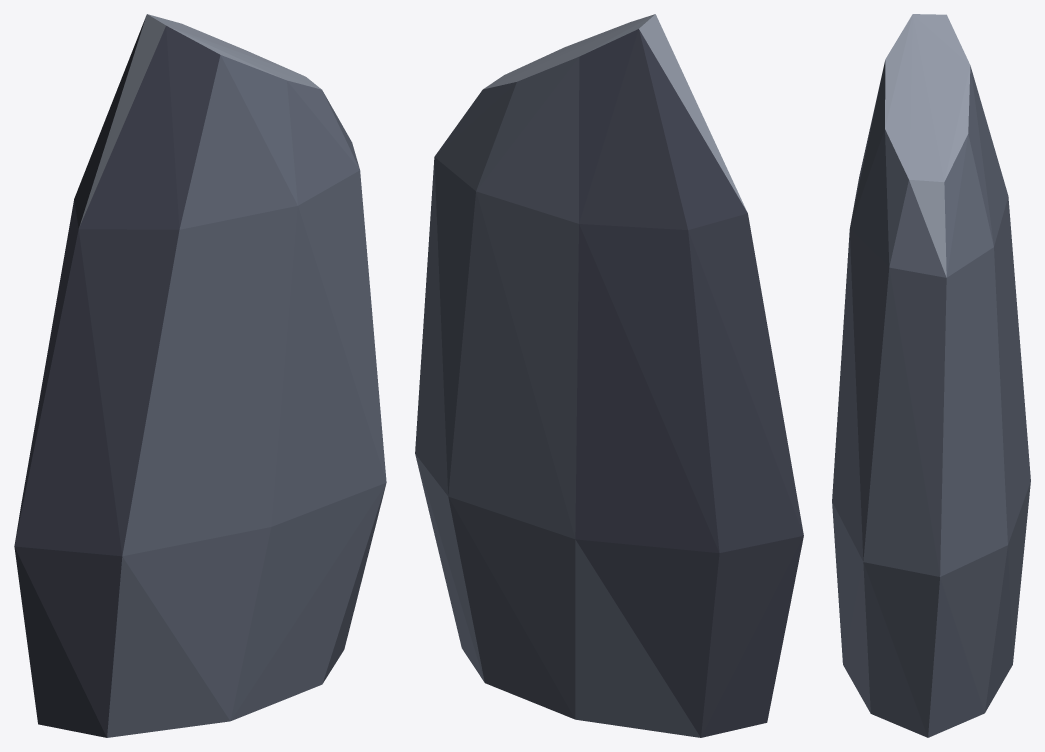
Rendered from TW_ROCK_UPRIGHT_B_LOD0.glb.
The picture shows the model from 3 angles, left to right: view 1: azimuth 30°, elevation 25°; view 2: azimuth 150°, elevation 25°; view 3: azimuth 270°, elevation 25°; orthographic projection. The views are drawn at different scales.
Parts seen in each view (by area): view 1: TW_ROCK_UPRIGHT_B_LOD0; view 2: TW_ROCK_UPRIGHT_B_LOD0; view 3: TW_ROCK_UPRIGHT_B_LOD0.
Part boxes in pixels (<box>): TW_ROCK_UPRIGHT_B_LOD0: <box>14,14,386,737</box>; TW_ROCK_UPRIGHT_B_LOD0: <box>415,14,803,737</box>; TW_ROCK_UPRIGHT_B_LOD0: <box>832,14,1030,737</box>.
Size of the model in its own units: 1.08 by 1.85 by 0.5215.
1 material, 1 textured.
